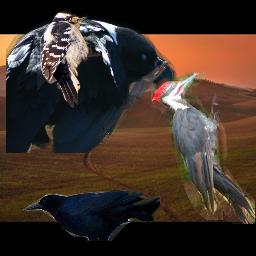Crow: (6, 19, 178, 153), (23, 190, 160, 241)
Woodpecker: (151, 72, 255, 224), (37, 10, 102, 108)
